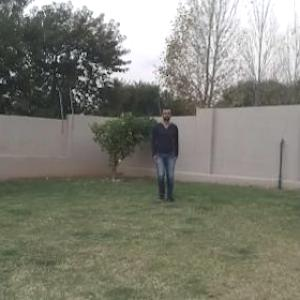follow: (153, 106, 179, 206)
